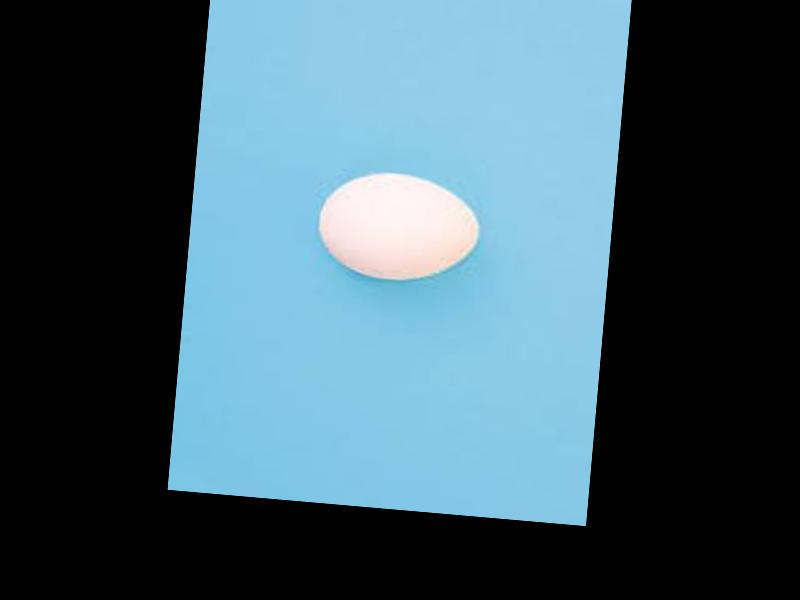Eggs: (314, 168, 486, 288)
